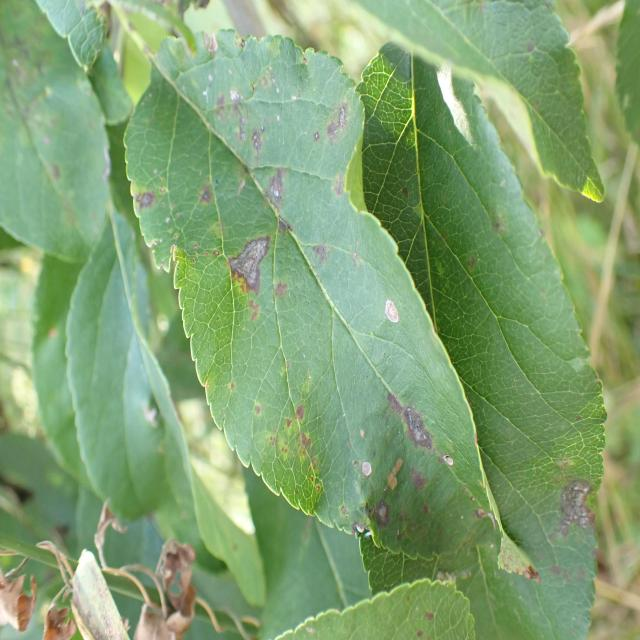frog-eye-leaf-spot: (123, 27, 503, 563), (354, 37, 606, 639)
